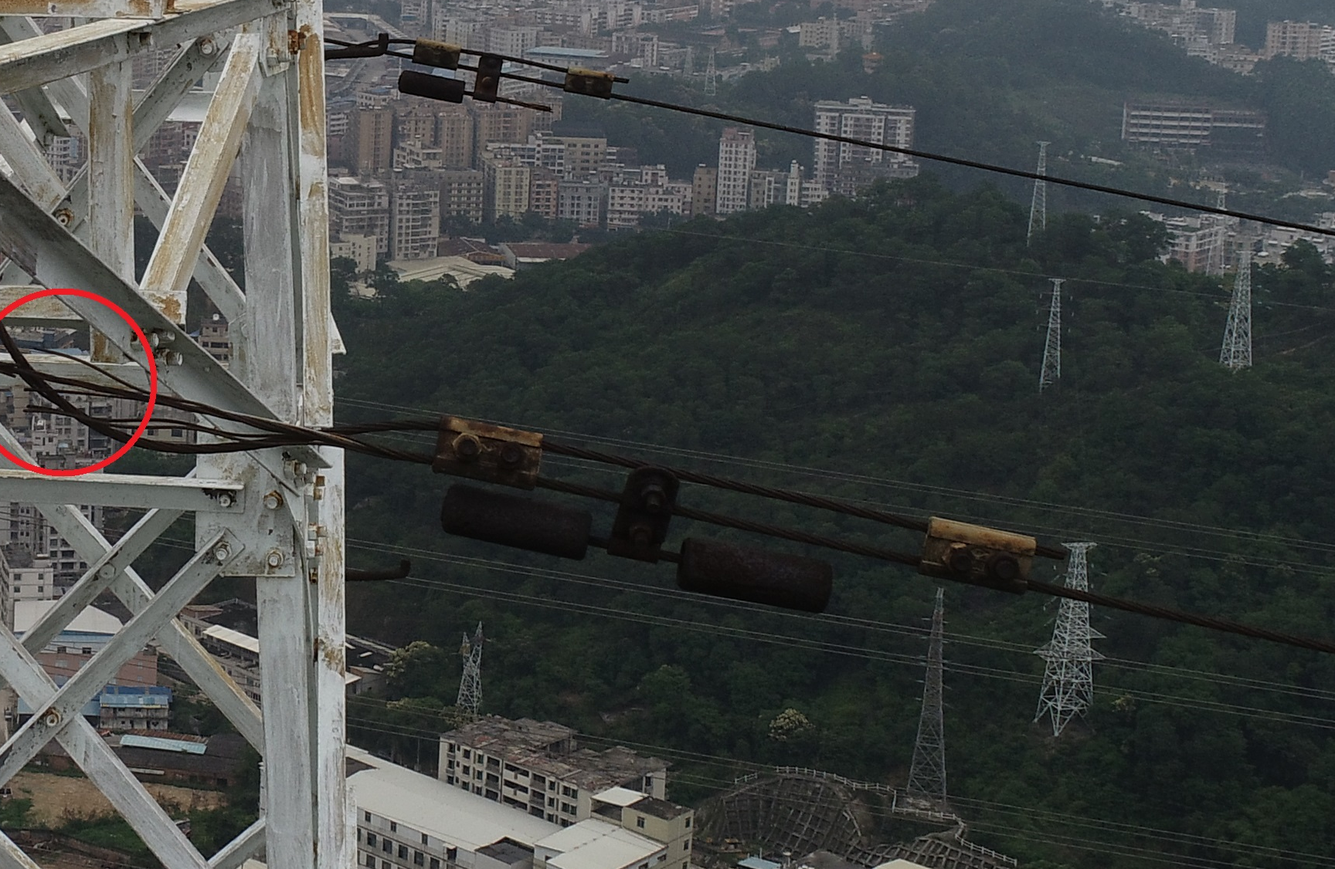damper: (437, 456, 837, 613)
damper_defect: (392, 49, 557, 119)
